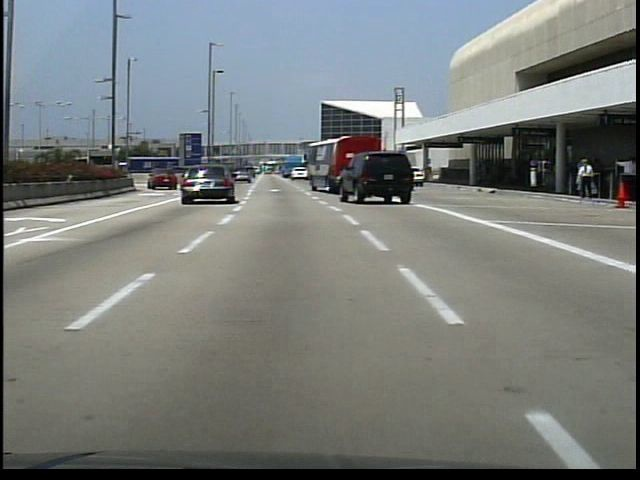person: (572, 155, 597, 203)
